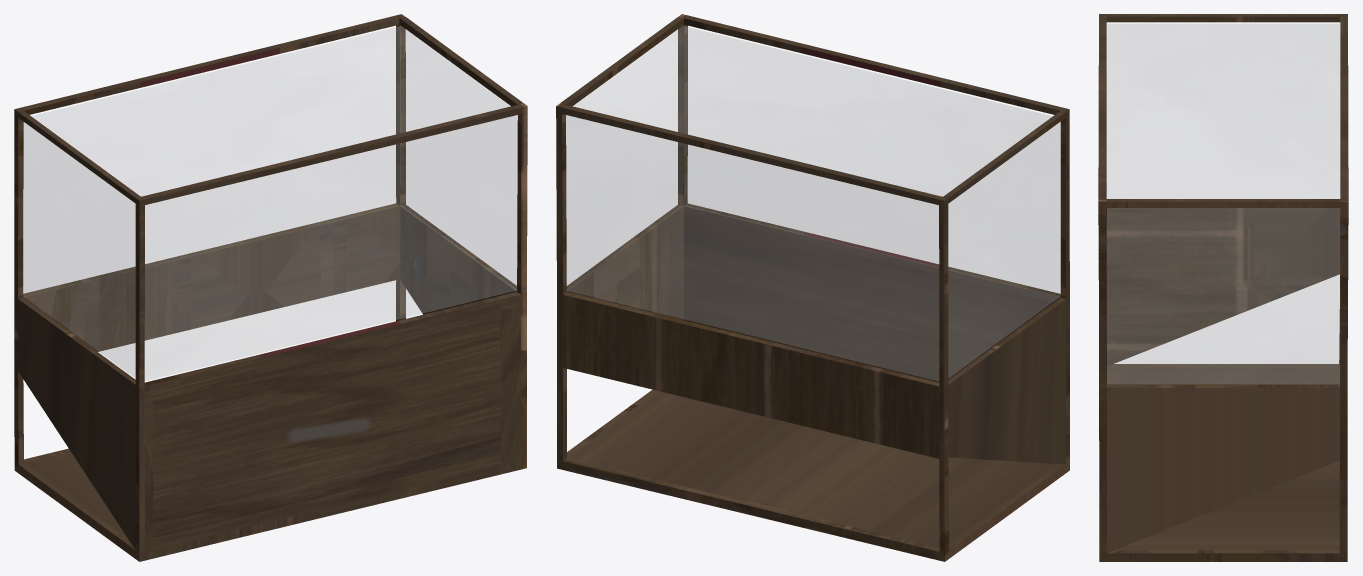
The model's file is Meja 2.fbx.
3 views of the same model, side by side, from view 1: azimuth 30°, elevation 25°; view 2: azimuth 150°, elevation 25°; view 3: azimuth 270°, elevation 25° (orthographic).
Parts seen in each view (by area): view 1: Meja 2_LOD0; view 2: Meja 2_LOD0; view 3: Meja 2_LOD0.
Boxes of the visible parts, left/top/right/bottom form: Meja 2_LOD0: left=14, top=14, right=527, bottom=561; Meja 2_LOD0: left=556, top=14, right=1069, bottom=561; Meja 2_LOD0: left=1098, top=14, right=1348, bottom=561.
Size of what is drawn, in the model's own units: 139 by 128 by 78.04.
